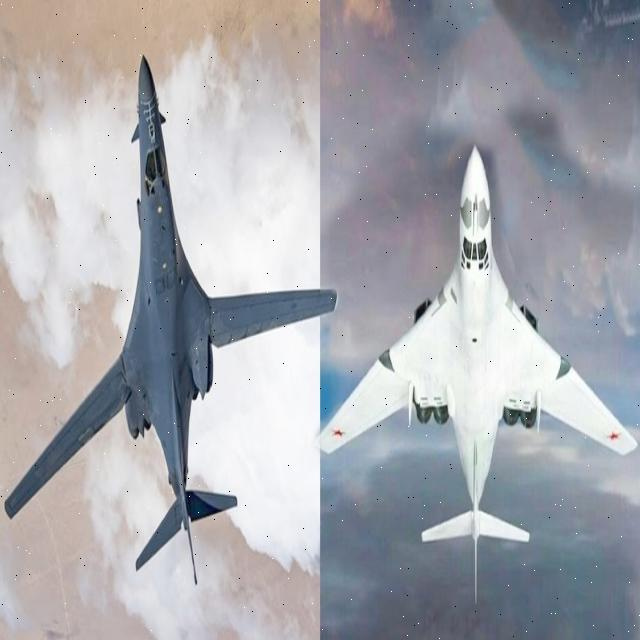Tu160: (0, 1, 355, 634), (286, 113, 640, 594)
